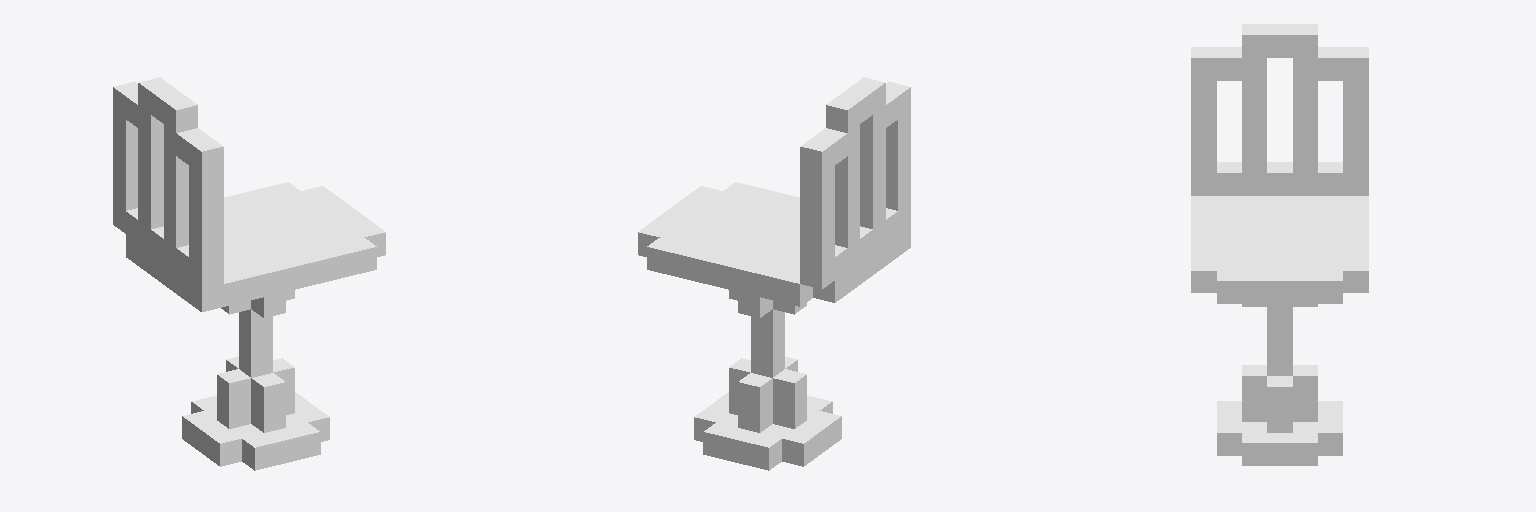
File: chairORstool.obj
3 renders of one model, left to right at view 1: azimuth 30°, elevation 25°; view 2: azimuth 150°, elevation 25°; view 3: azimuth 270°, elevation 25°, orthographic.
Visible parts, largest first — view 1: object 1; view 2: object 1; view 3: object 1.
Boxes of the visible parts, <box> form: object 1: <box>113,77,385,470</box>; object 1: <box>638,77,910,470</box>; object 1: <box>1191,24,1368,465</box>.
Size of the model in its own units: 0.9 by 1.6 by 0.7.